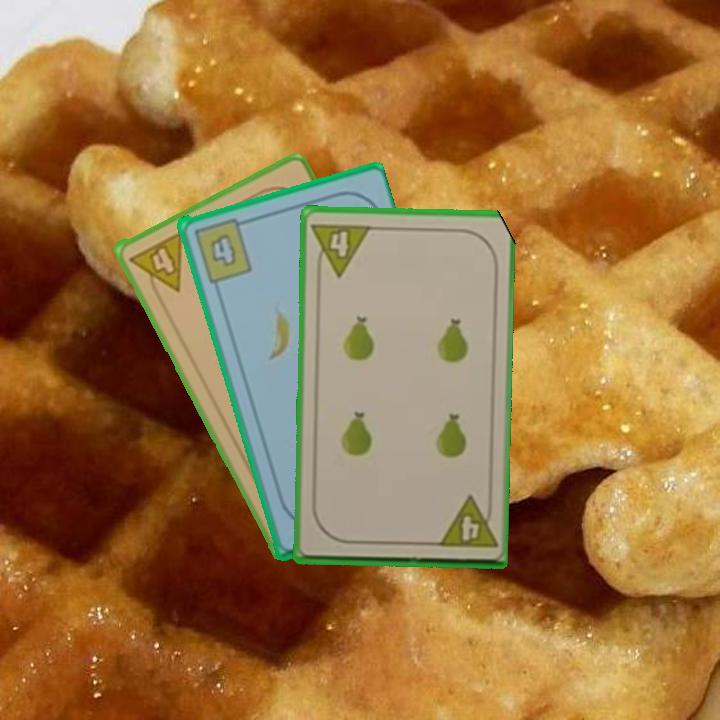4b: (189, 214, 254, 285)
4p: (126, 228, 186, 303), (308, 219, 373, 279), (433, 493, 498, 551)
